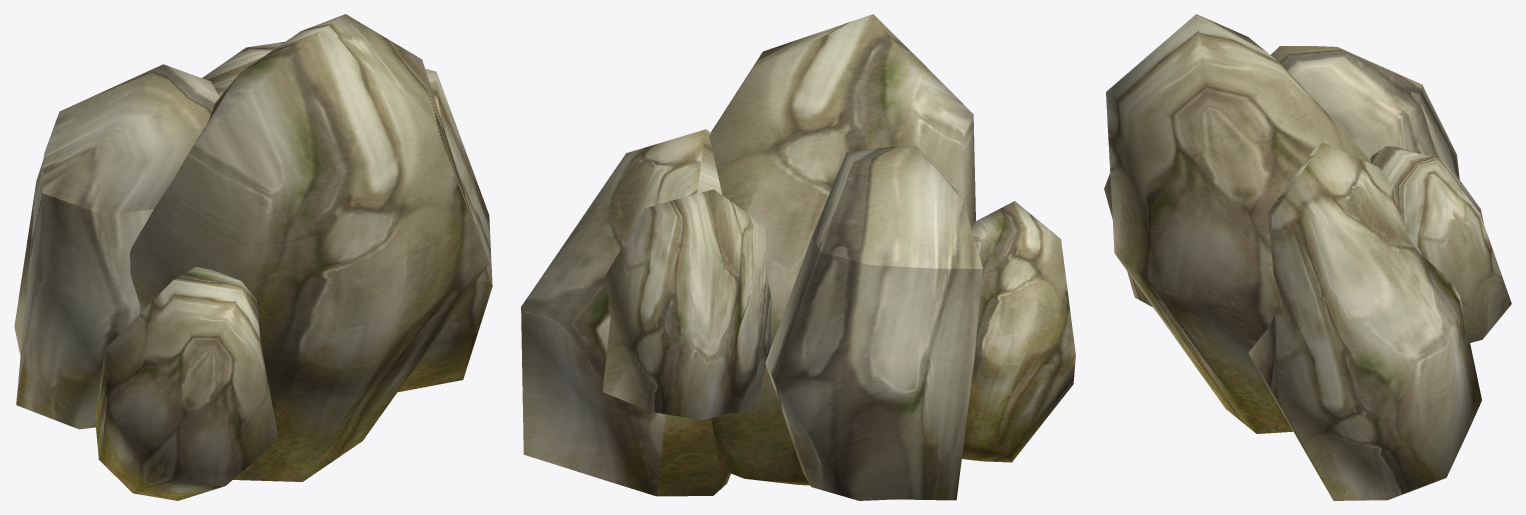
The model's file is a_SWCwallA06_1.glb.
The picture shows the model from 3 angles, left to right: view 1: azimuth 30°, elevation 25°; view 2: azimuth 150°, elevation 25°; view 3: azimuth 270°, elevation 25°; orthographic projection. The views are drawn at different scales.
Visible parts, largest first — view 1: a_SWCwallA06_1; view 2: a_SWCwallA06_1; view 3: a_SWCwallA06_1.
Boxes of the visible parts, x1,y1,x2,y2 form: a_SWCwallA06_1: (14, 14, 492, 500); a_SWCwallA06_1: (521, 14, 1075, 500); a_SWCwallA06_1: (1104, 14, 1511, 500).
Size of the model in its own units: 2.8 by 2.57 by 2.4.
Materials: 1 (1 with a texture image).
